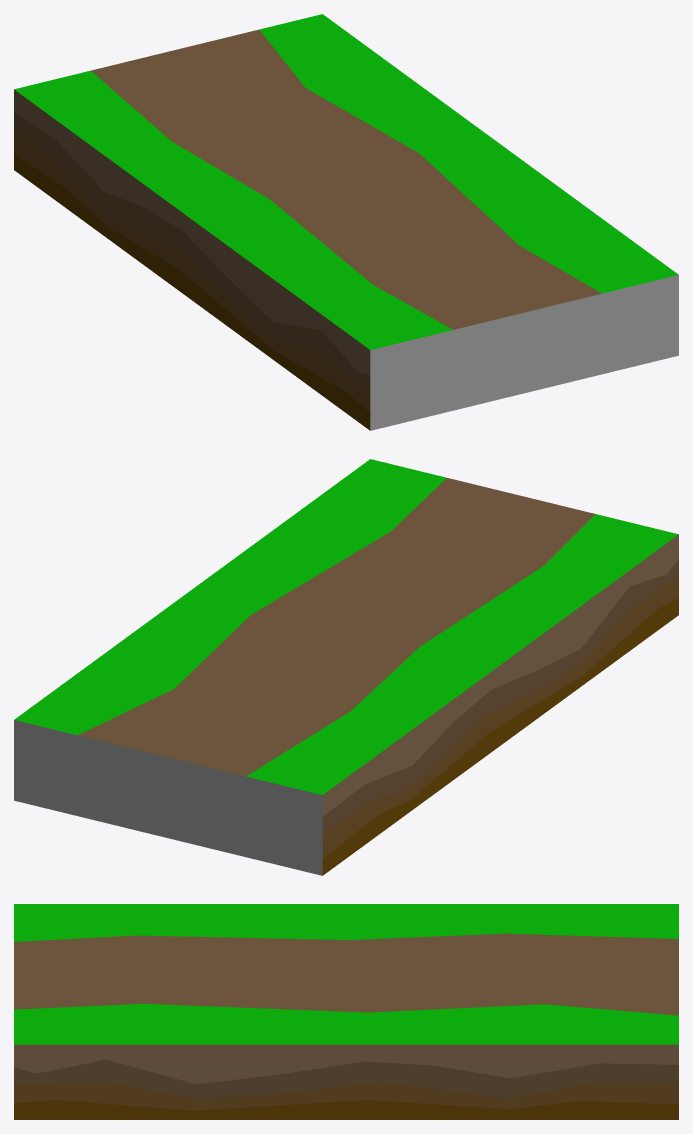
The model's file is Path_One.fbx.
The picture shows the model from 3 angles, top to bottom: view 1: azimuth 30°, elevation 25°; view 2: azimuth 150°, elevation 25°; view 3: azimuth 270°, elevation 25°; orthographic projection. The views are drawn at different scales.
Parts seen in each view (by area): view 1: pCube1; view 2: pCube1; view 3: pCube1.
Part boxes in pixels (x1,y1,x2,y2): pCube1: (14,14,678,430); pCube1: (14,459,678,875); pCube1: (14,904,678,1119).
Size of the model in its own units: 10 by 2.5 by 20.
